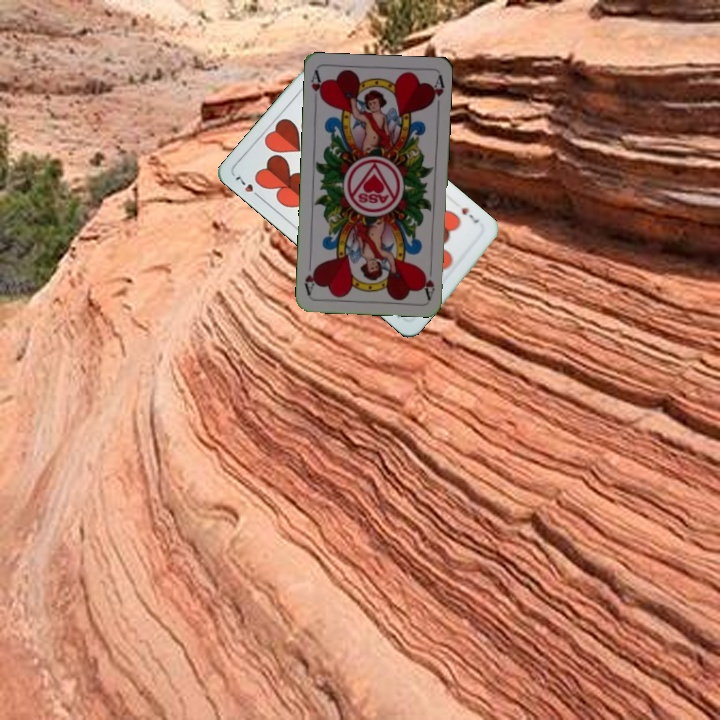H7: (231, 172, 265, 202), (457, 203, 482, 226)
HA: (307, 67, 326, 104), (420, 260, 437, 301)
